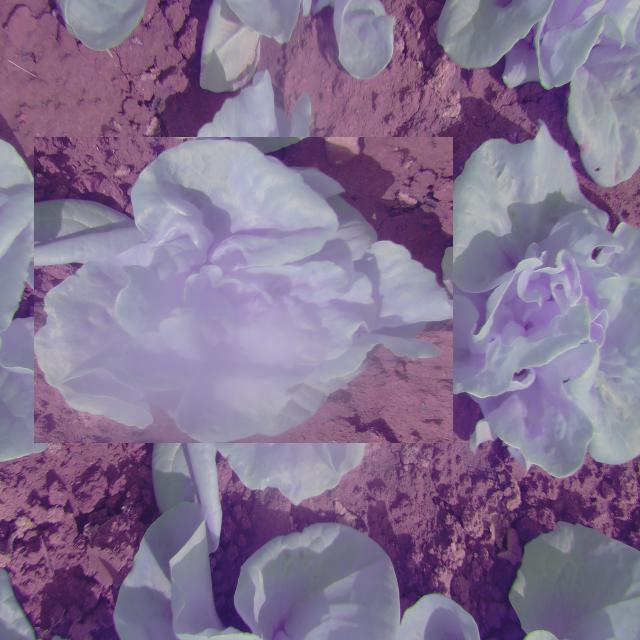vege: (62, 108, 425, 472)
